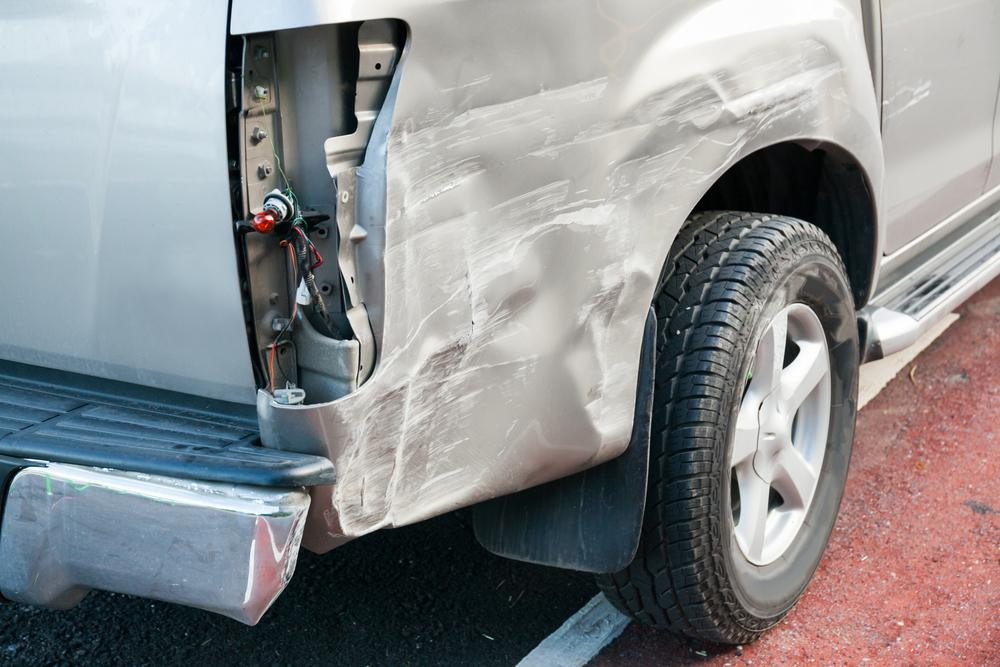dent: (333, 0, 883, 531)
